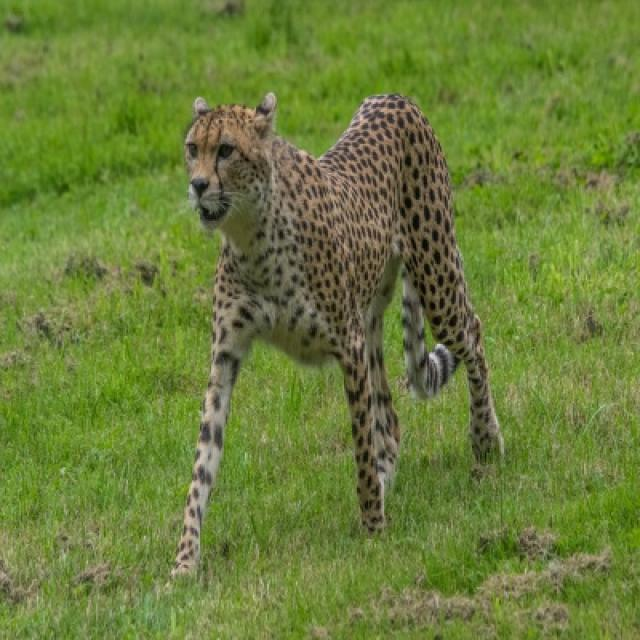Cheetah: (169, 88, 498, 573)
